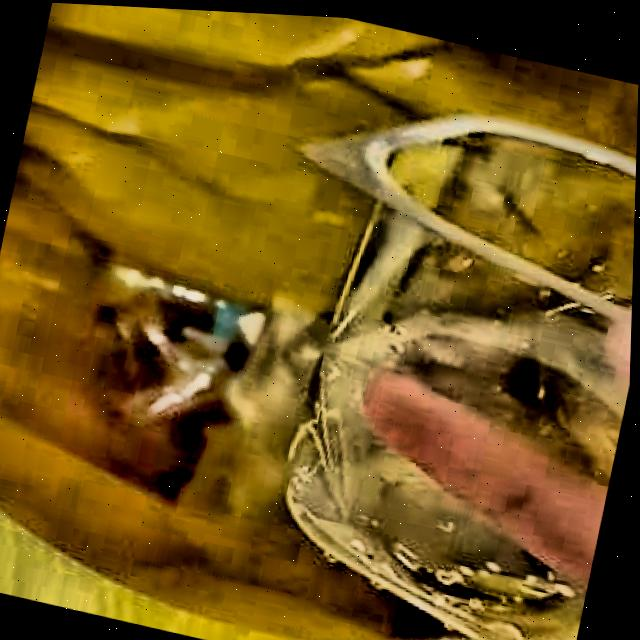plastic: (289, 110, 637, 640)
